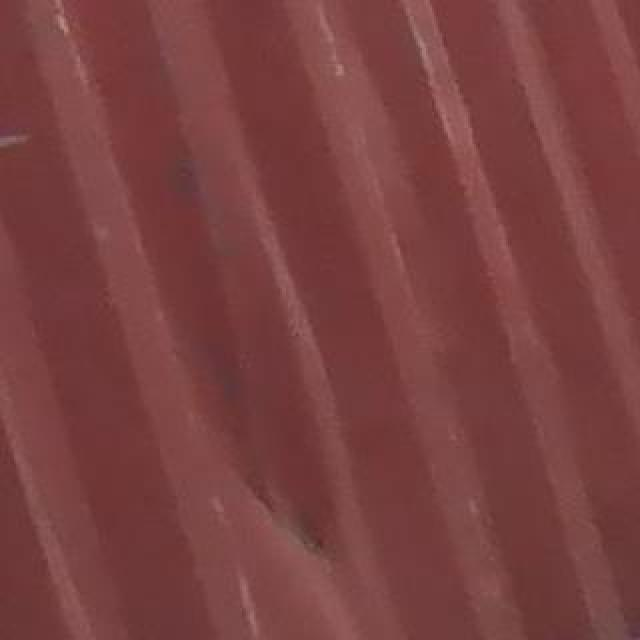dent: (163, 393, 381, 640)
